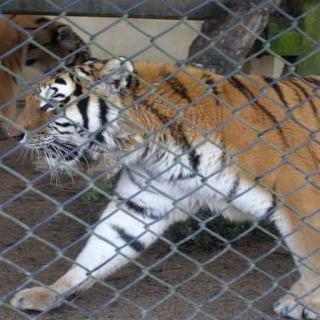Tiger: (13, 36, 320, 307)
